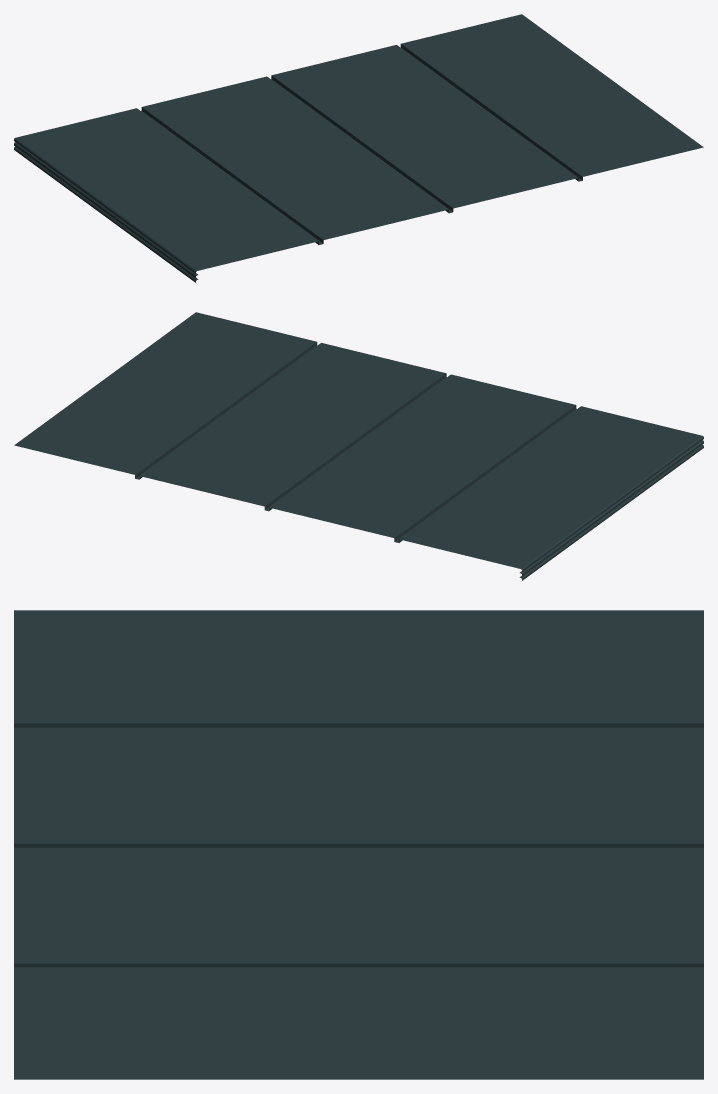
The model's file is Level 2 First Floor.fbx.
3 renders of one model, top to bottom at view 1: azimuth 30°, elevation 25°; view 2: azimuth 150°, elevation 25°; view 3: azimuth 270°, elevation 25°, orthographic. The views are drawn at different scales.
Visible parts, largest first — view 1: pCube3; view 2: pCube3; view 3: pCube3.
Boxes of the visible parts, left/top/right/bottom form: pCube3: left=14, top=14, right=703, bottom=282; pCube3: left=14, top=312, right=703, bottom=580; pCube3: left=14, top=610, right=703, bottom=1079.
Size of the model in its own units: 706 by 16.79 by 438.
